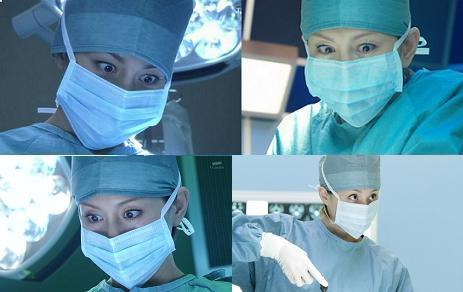mask: (55, 63, 169, 149), (303, 56, 403, 130), (81, 216, 176, 289)
